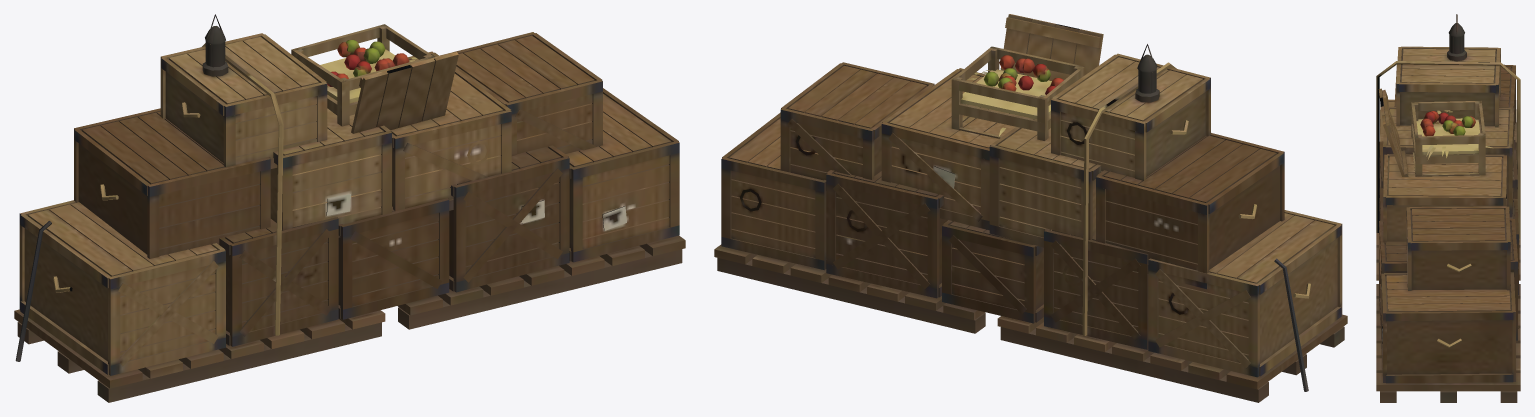
The model's file is crate-wall.hq.glb.
The picture shows the model from 3 angles, left to right: view 1: azimuth 30°, elevation 25°; view 2: azimuth 150°, elevation 25°; view 3: azimuth 270°, elevation 25°; orthographic projection. The views are drawn at different scales.
Parts seen in each view (by area): view 1: crate-wall; view 2: crate-wall; view 3: crate-wall.
Boxes of the visible parts, left/top/right/bottom form: crate-wall: left=14, top=14, right=685, bottom=402; crate-wall: left=714, top=14, right=1347, bottom=402; crate-wall: left=1376, top=14, right=1520, bottom=402.
Size of the model in its own units: 3.16 by 1.56 by 0.8632.
Materials: 1 (1 with a texture image).
